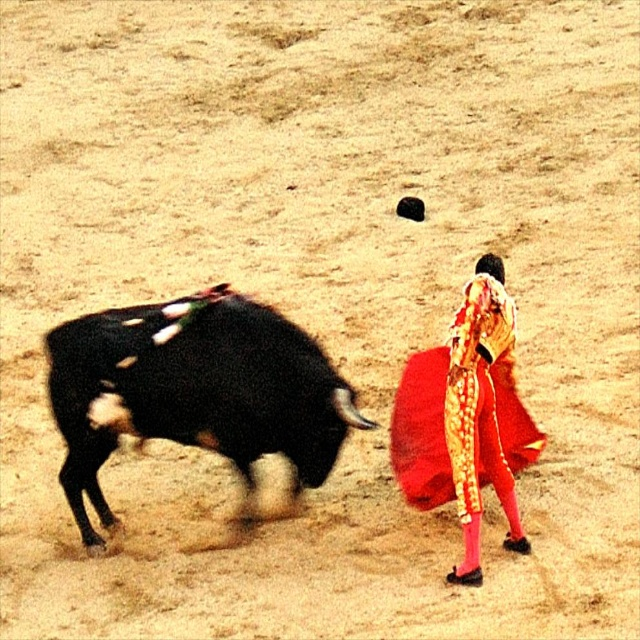Bull: (45, 278, 381, 539)
